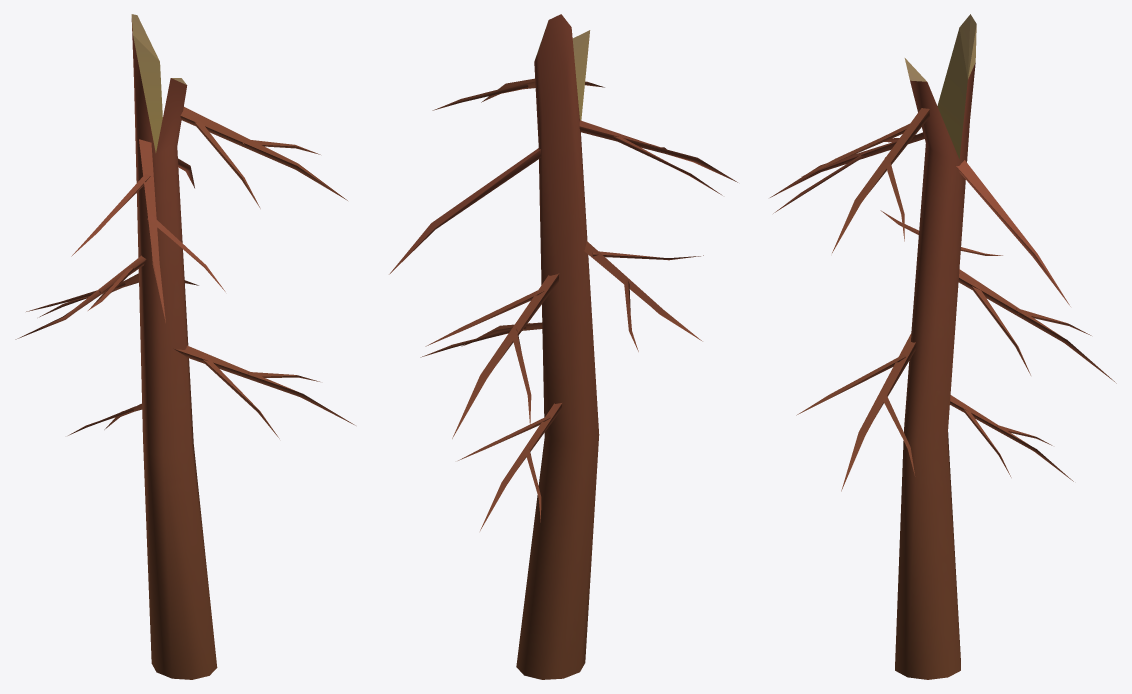
File: TreeDamaged2.fbx
The picture shows the model from 3 angles, left to right: view 1: azimuth 30°, elevation 25°; view 2: azimuth 150°, elevation 25°; view 3: azimuth 270°, elevation 25°; orthographic projection. The views are drawn at different scales.
Parts seen in each view (by area): view 1: TreeDamaged2; view 2: TreeDamaged2; view 3: TreeDamaged2.
Boxes of the visible parts, left/top/right/bottom form: TreeDamaged2: left=15, top=14, right=355, bottom=679; TreeDamaged2: left=389, top=14, right=737, bottom=679; TreeDamaged2: left=770, top=14, right=1116, bottom=679.
Size of the model in its own units: 3.59 by 7.61 by 3.79.
